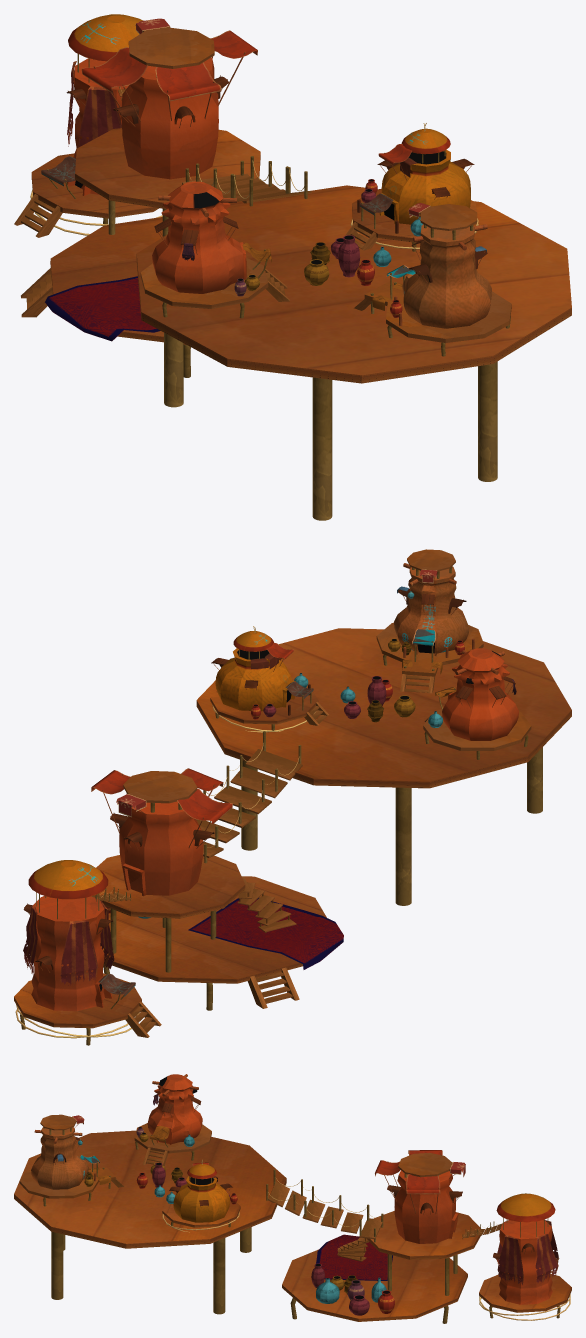
Rendered from big compo4.fbx.
3 views of the same model, one above another, from view 1: azimuth 30°, elevation 25°; view 2: azimuth 150°, elevation 25°; view 3: azimuth 270°, elevation 25° (orthographic). The views are drawn at different scales.
Visible parts, largest first — view 1: polySurface940; view 2: polySurface940; view 3: polySurface940.
Part boxes in pixels (x1,y1,x2,y2): polySurface940: (14, 14, 571, 520); polySurface940: (14, 549, 571, 1045); polySurface940: (14, 1074, 571, 1323).
Bounding box in the file's own units: 49.66 × 36.43 × 102.
